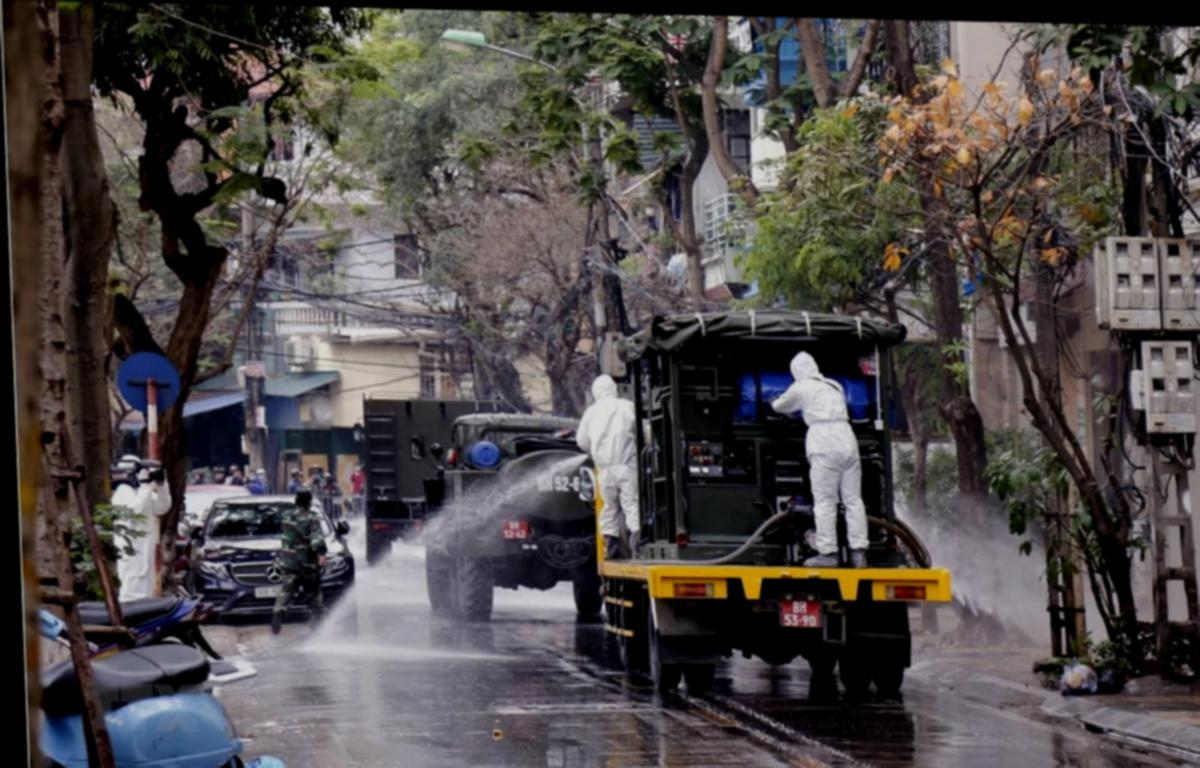License_Plate: (771, 595, 826, 635), (251, 581, 293, 601), (496, 517, 532, 540)
